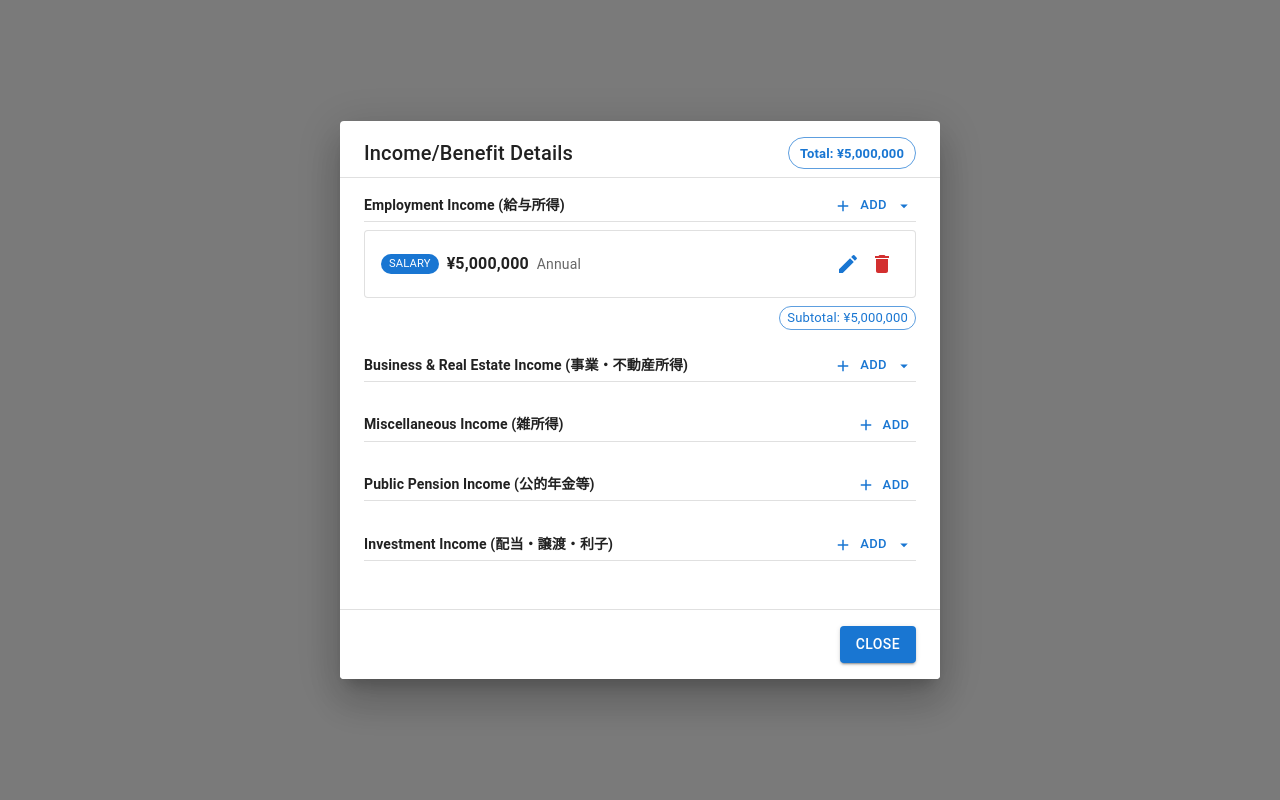
Test: IncomeDetailsModal - Adding from each section › opens the form directly for a single-type section
This screenshot has width=1280, height=800.
Click the button with aria-label "add miscellaneous income" at (884, 425), box [852,410,916,441]
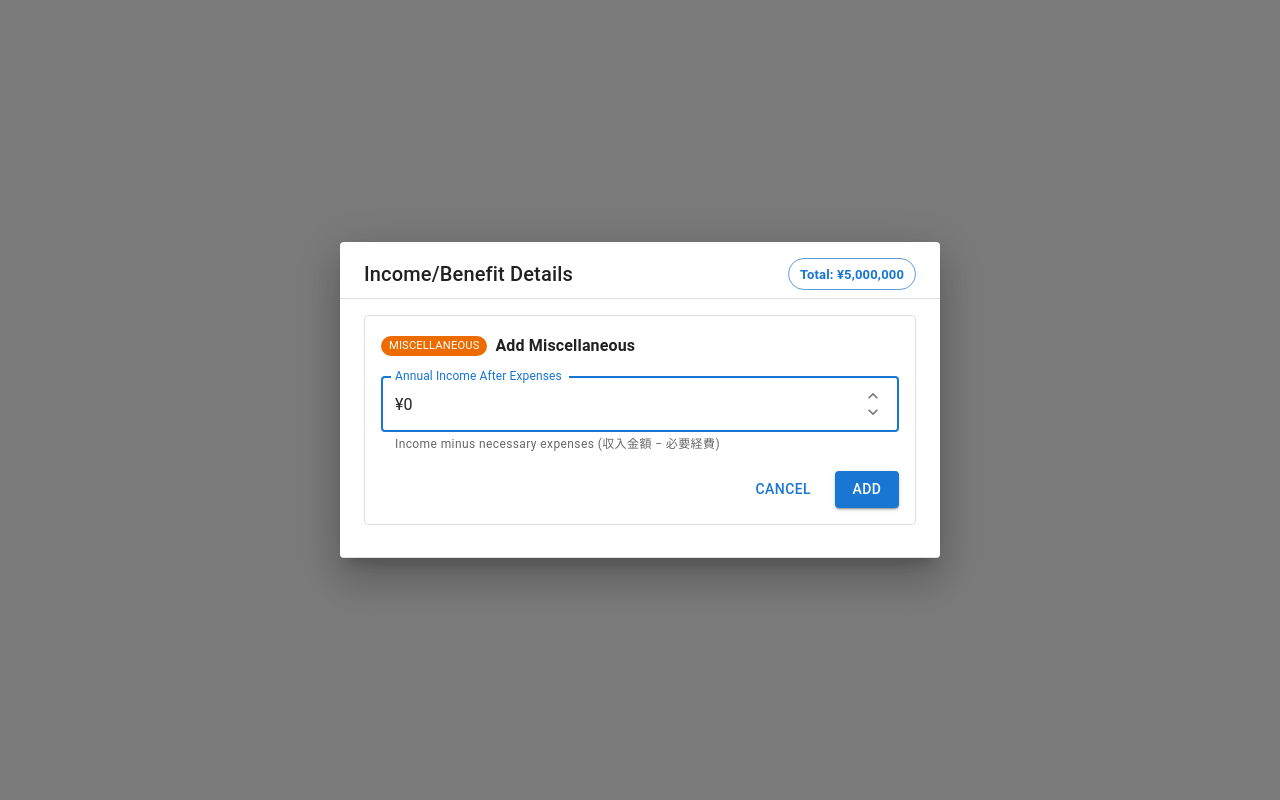
Expected: the heading "Add Miscellaneous" is shown, [495,332,635,360]
Now the field labelled "Annual Income After Expenses" is shown, box [381,376,853,432]
